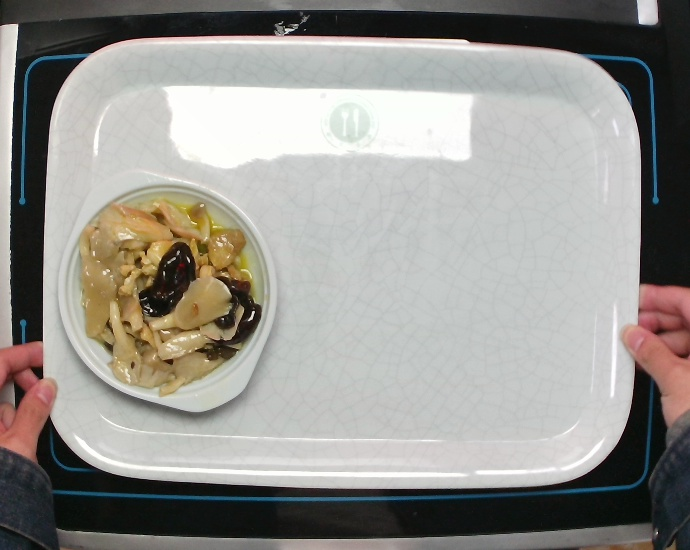JYsf-Shuang_Er_Pan: (61, 168, 282, 418)
